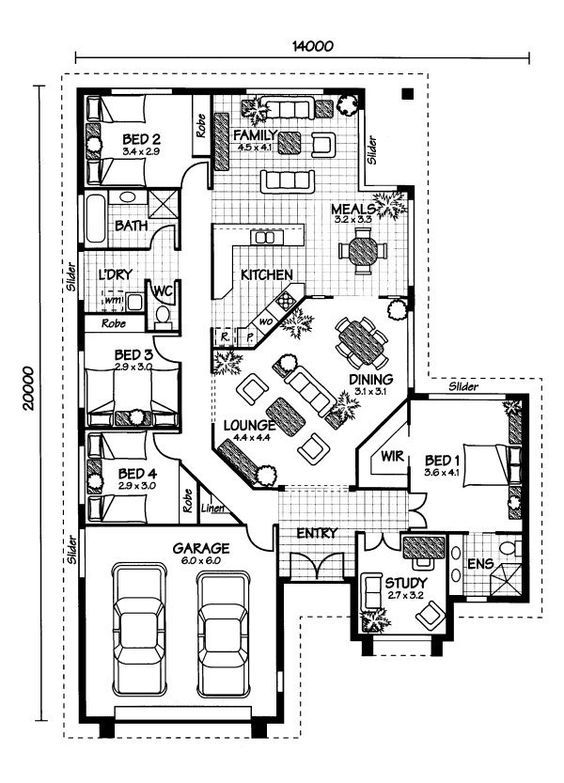door: (286, 549, 345, 575), (147, 430, 177, 462), (177, 159, 210, 188), (145, 221, 178, 250), (146, 334, 179, 363), (243, 526, 275, 554), (410, 489, 430, 531), (360, 534, 401, 554)
room: (405, 394, 530, 534), (77, 87, 213, 189), (77, 425, 183, 525), (76, 330, 182, 428), (355, 532, 449, 640), (76, 186, 182, 250)
